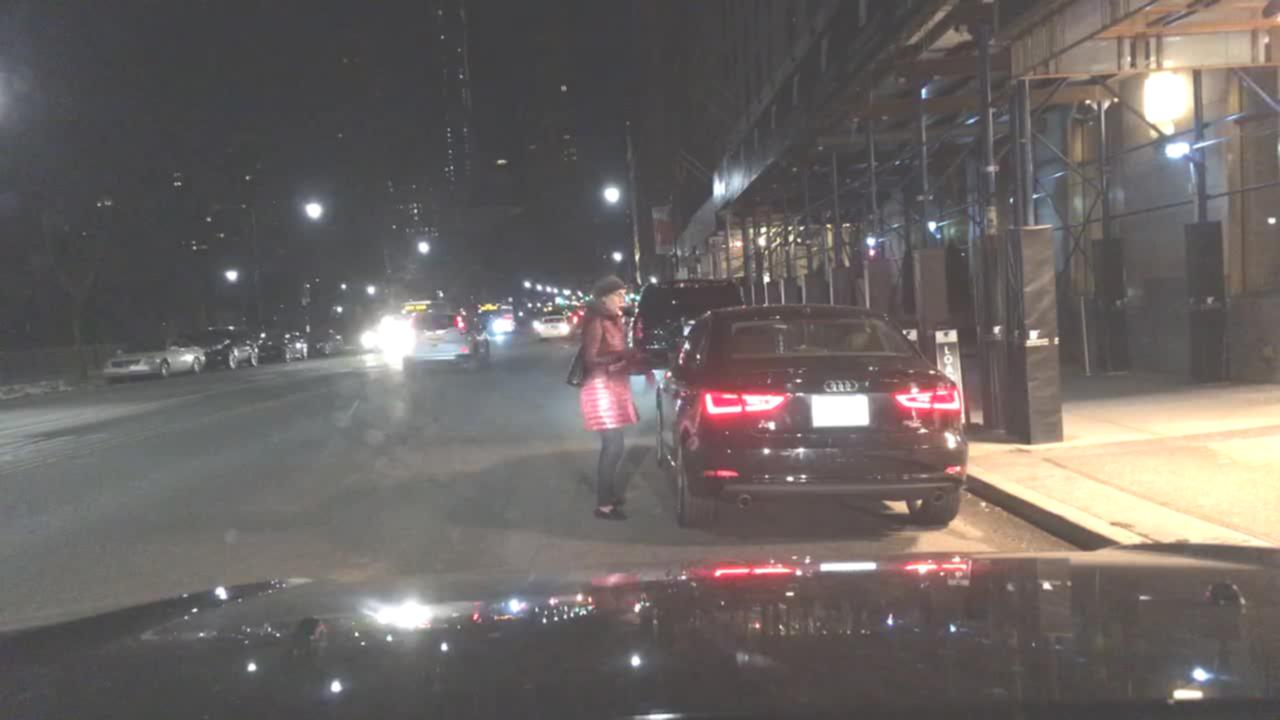Audi: (820, 370, 861, 399)
